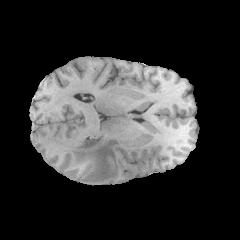glioma: (65, 138, 118, 182)
